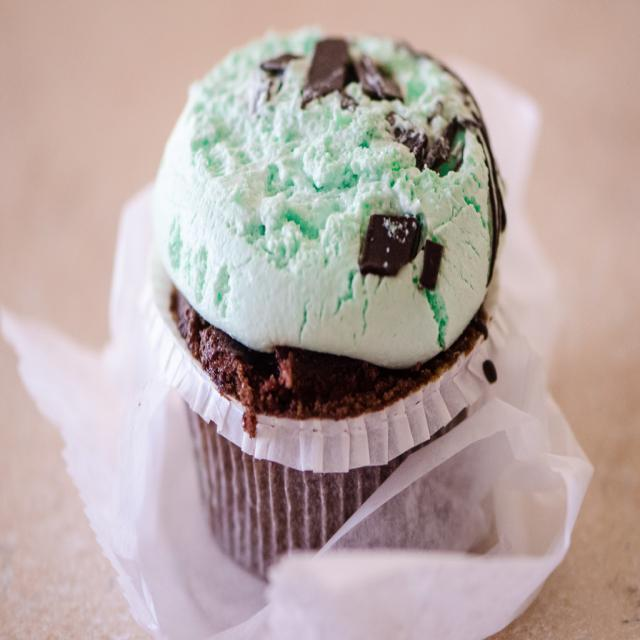Cookie: (139, 20, 512, 582)
